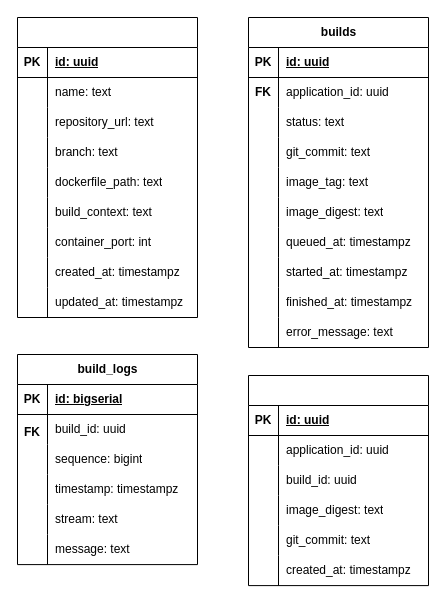
Some shapes in this 446 by 604 pixel diagram are drawn without their labels. Each missing label, with the box of its shape:
applications: (16, 16, 198, 318)
releases: (248, 374, 428, 586)
